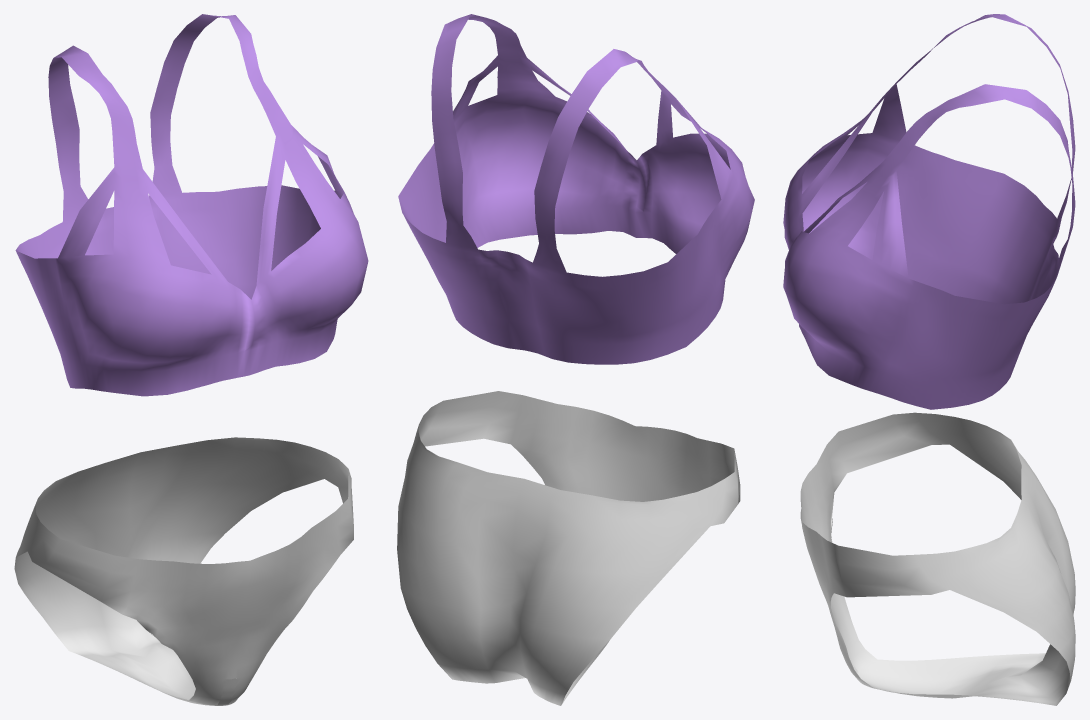
The model's file is under.fbx.
3 views of the same model, side by side, from view 1: azimuth 30°, elevation 25°; view 2: azimuth 150°, elevation 25°; view 3: azimuth 270°, elevation 25° (orthographic).
Visible parts, largest first — view 1: RetopoFlow, RetopoFlow.001; view 2: RetopoFlow, RetopoFlow.001; view 3: RetopoFlow, RetopoFlow.001.
Part boxes in pixels (left/top/right/bottom): RetopoFlow: left=15, top=14, right=368, bottom=396; RetopoFlow.001: left=14, top=437, right=353, bottom=705; RetopoFlow: left=398, top=14, right=754, bottom=364; RetopoFlow.001: left=397, top=391, right=740, bottom=705; RetopoFlow: left=783, top=14, right=1075, bottom=409; RetopoFlow.001: left=800, top=412, right=1075, bottom=705.
Bounding box in the file's own units: 33.84 × 67.96 × 27.93.
